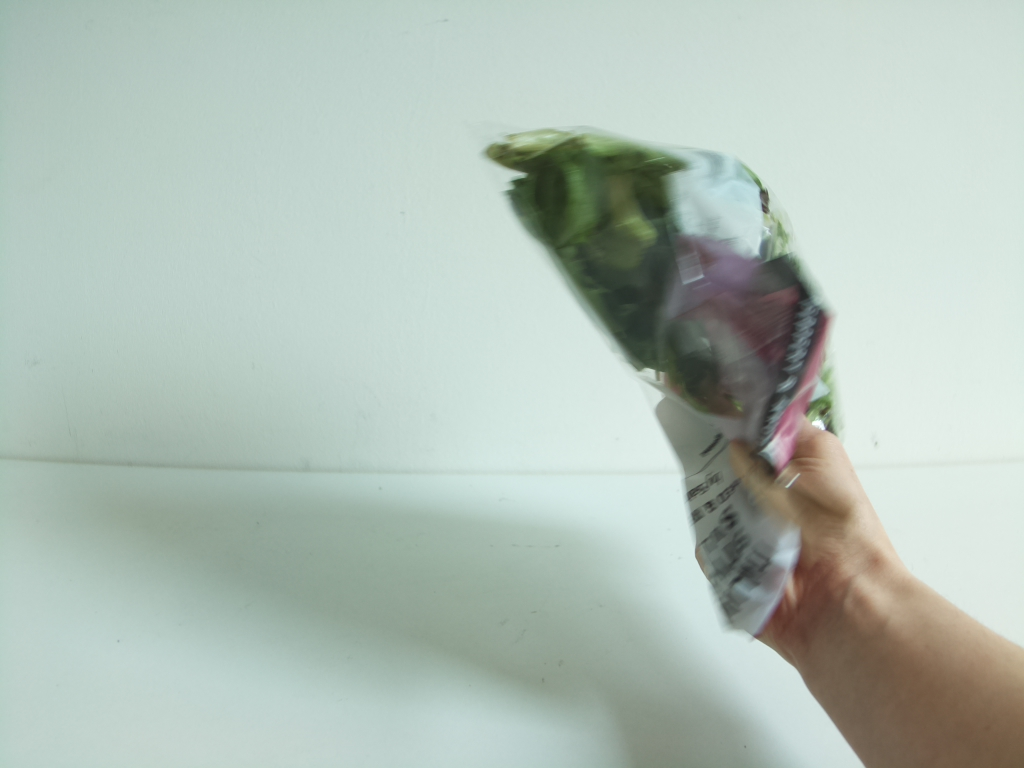salad: (489, 124, 833, 635)
